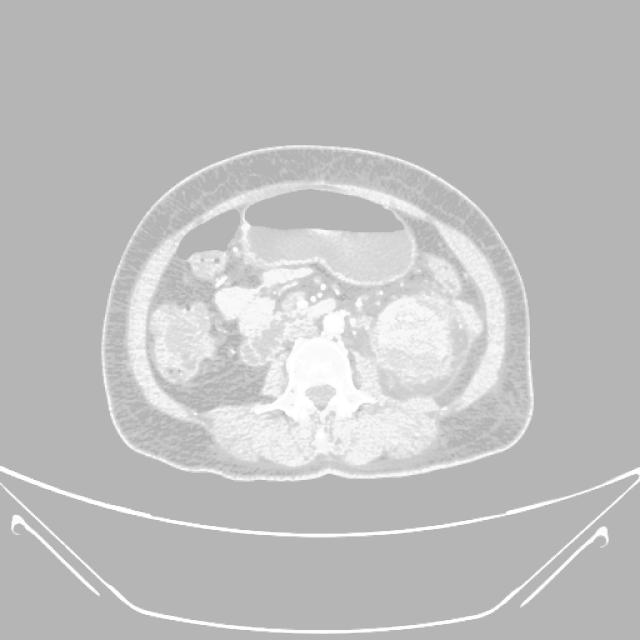TUMOR: (106, 171, 505, 417)
